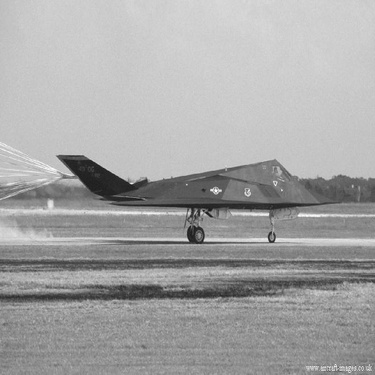airplane: (26, 103, 351, 267)
